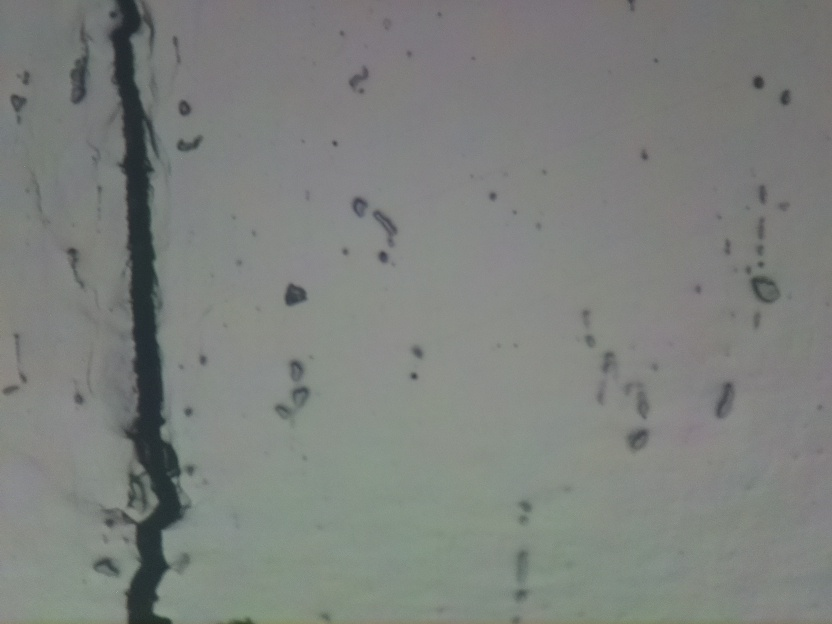crack: (107, 0, 181, 624)
